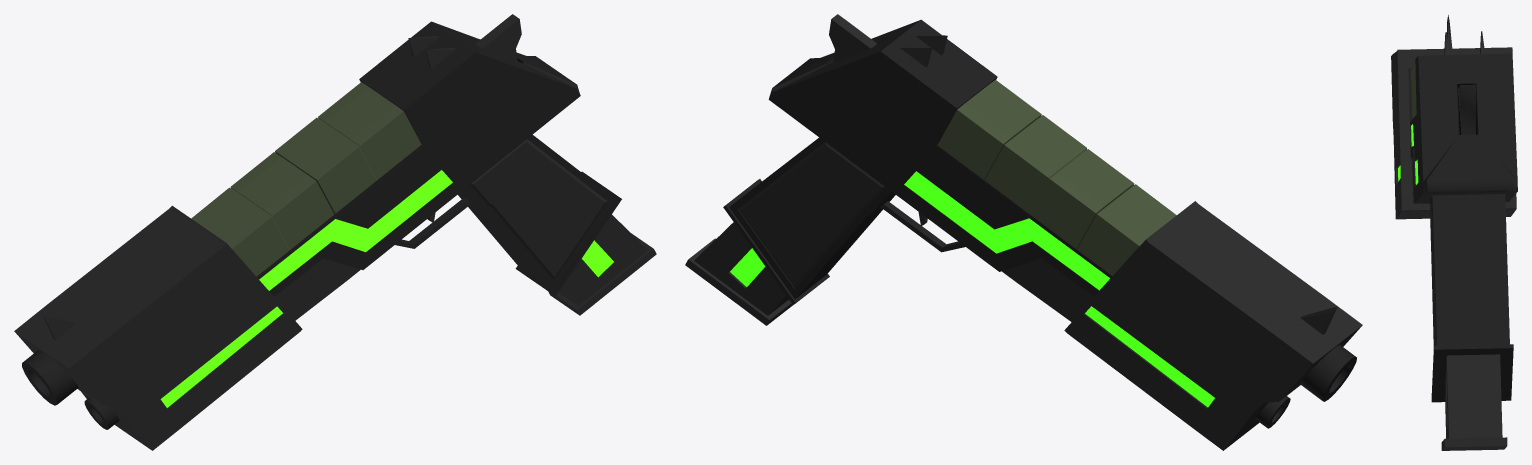
Rendered from controller-2.glb.
The picture shows the model from 3 angles, left to right: view 1: azimuth 30°, elevation 25°; view 2: azimuth 150°, elevation 25°; view 3: azimuth 270°, elevation 25°; orthographic projection. The views are drawn at different scales.
Visible parts, largest first — view 1: polySurface9; view 2: polySurface9; view 3: polySurface9.
Part boxes in pixels (<box>): polySurface9: <box>14,14,656,450</box>; polySurface9: <box>685,14,1362,450</box>; polySurface9: <box>1391,15,1517,450</box>.
Size of the model in its own units: 0.3083 by 0.1477 by 0.0486.
